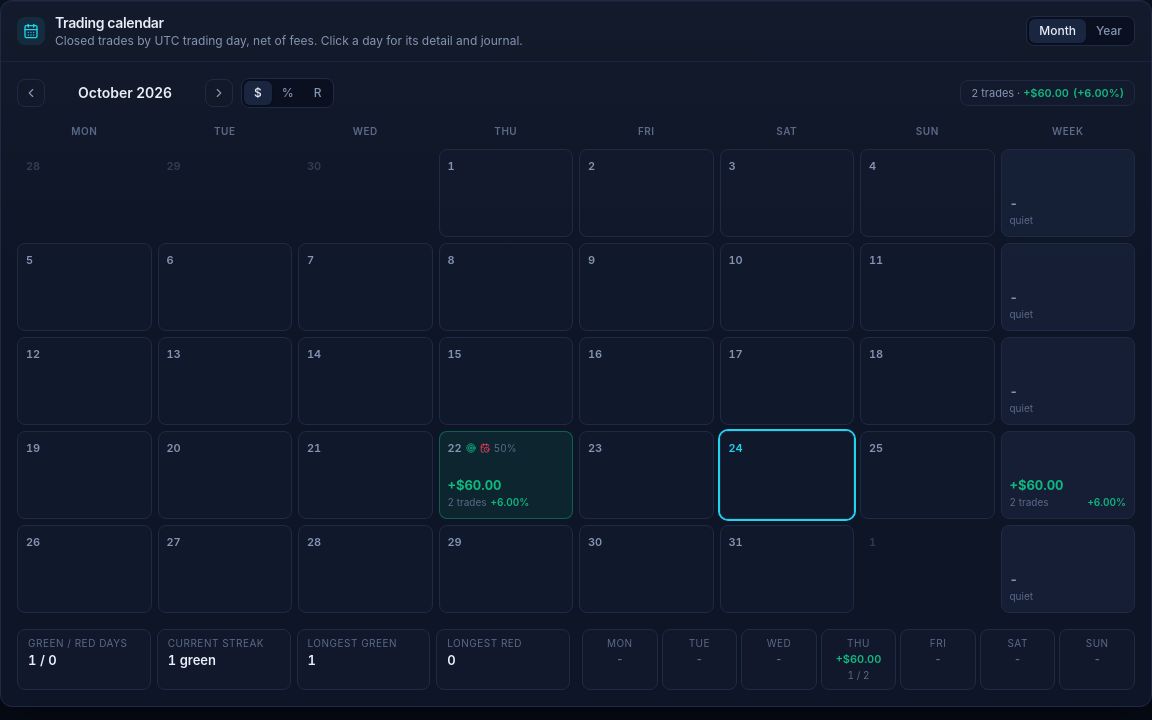
it: Calendar › switches the cell figure to R and remembers it
Expected: the button with test id "day-2026-10-22" is shown, [438, 431, 573, 519]
Step 1. Click the button "R" → x=318, y=93, box [304, 81, 332, 105]
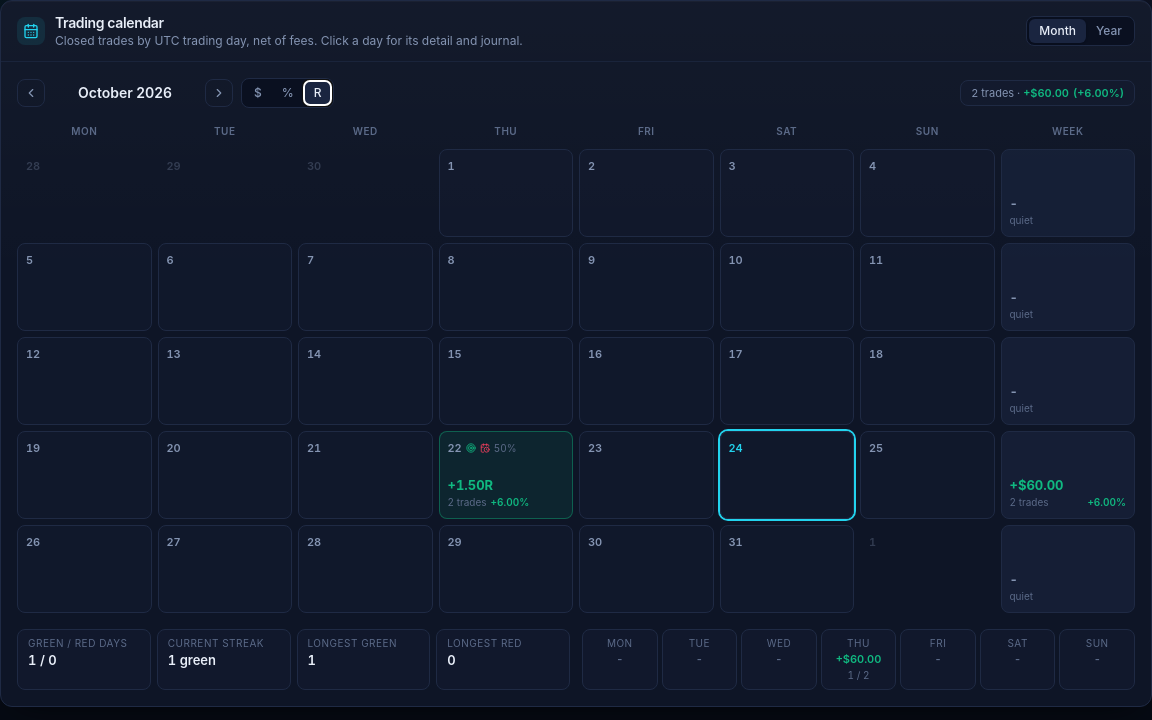
Result: the text with test id "day-metric-2026-10-22" reads "+1.50R" at [448, 476, 493, 492]
